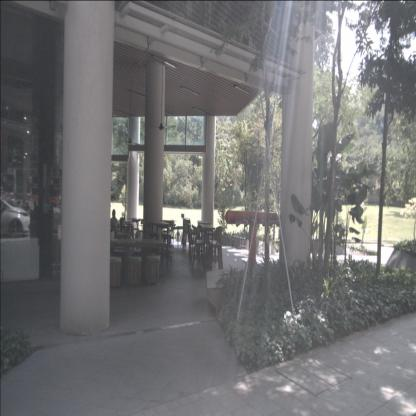human-pedestrian-adult: (109, 209, 119, 248)
